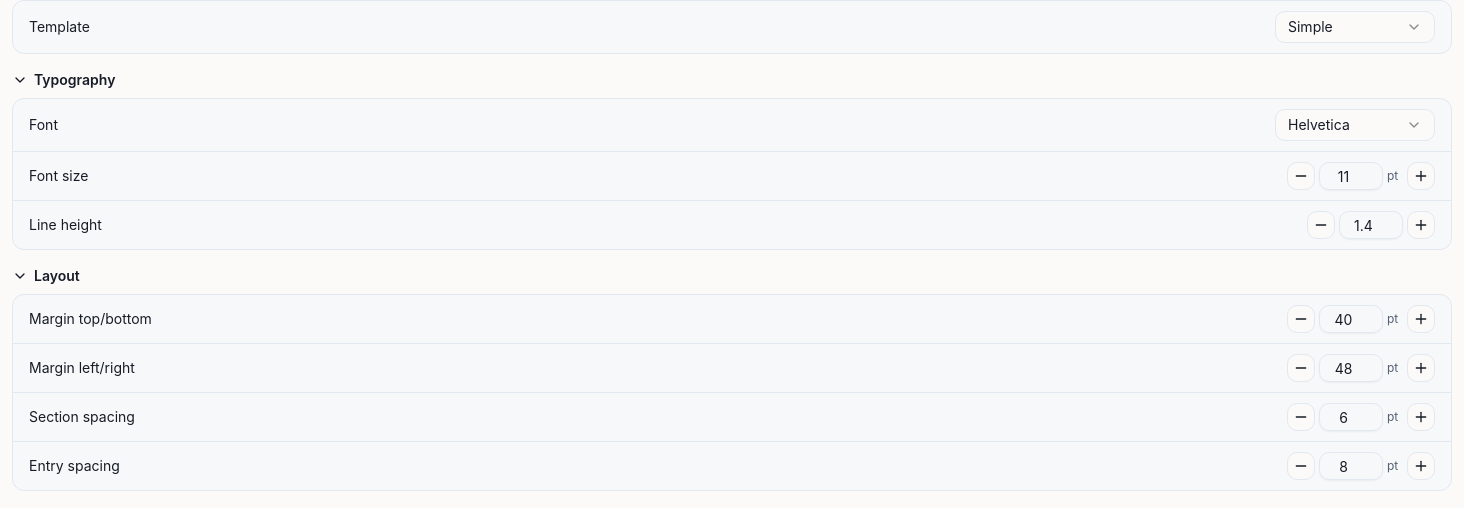
Test case: ExportSettingsPanel — typing › does not commit a value outside the range, and reverts on blur
Replace the text in the number field labelled "Margin left/right" with "99" at (1351, 368), box [1319, 354, 1383, 382]
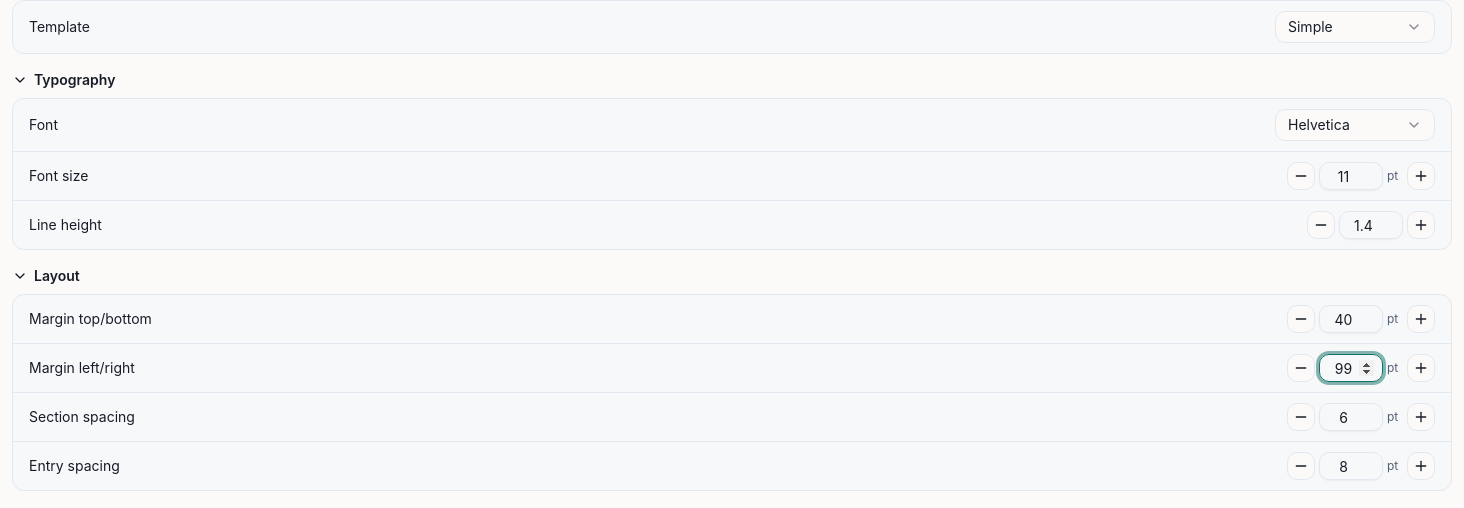
Press Tab
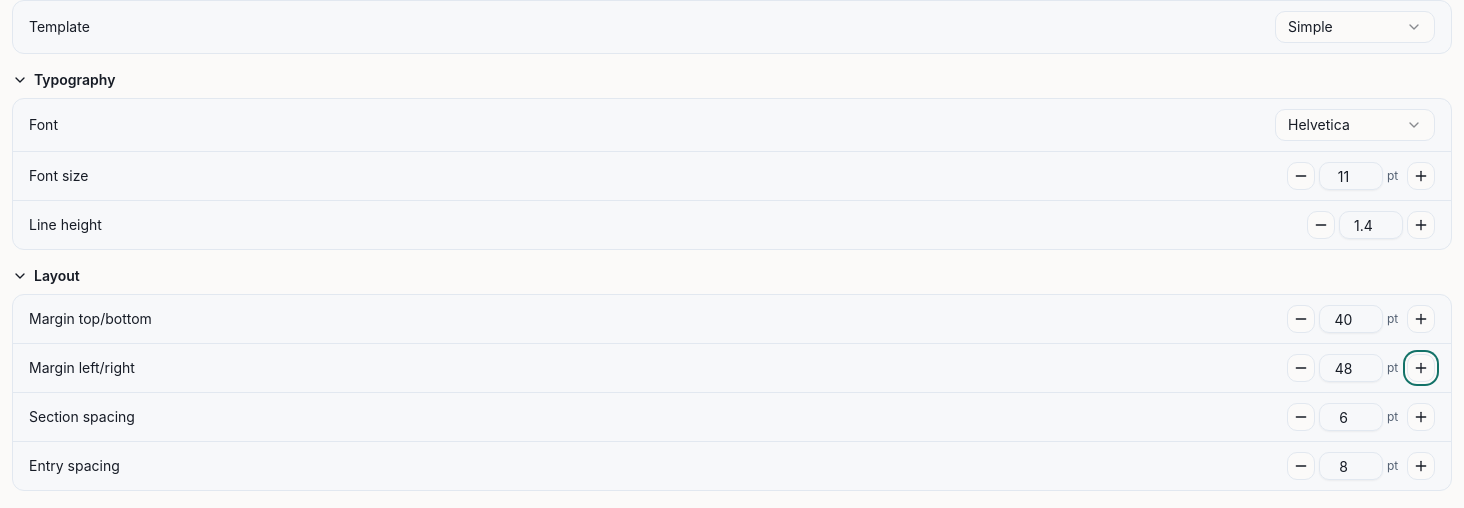
Now the number field labelled "Margin left/right" holds "48", box [1319, 354, 1383, 382]
